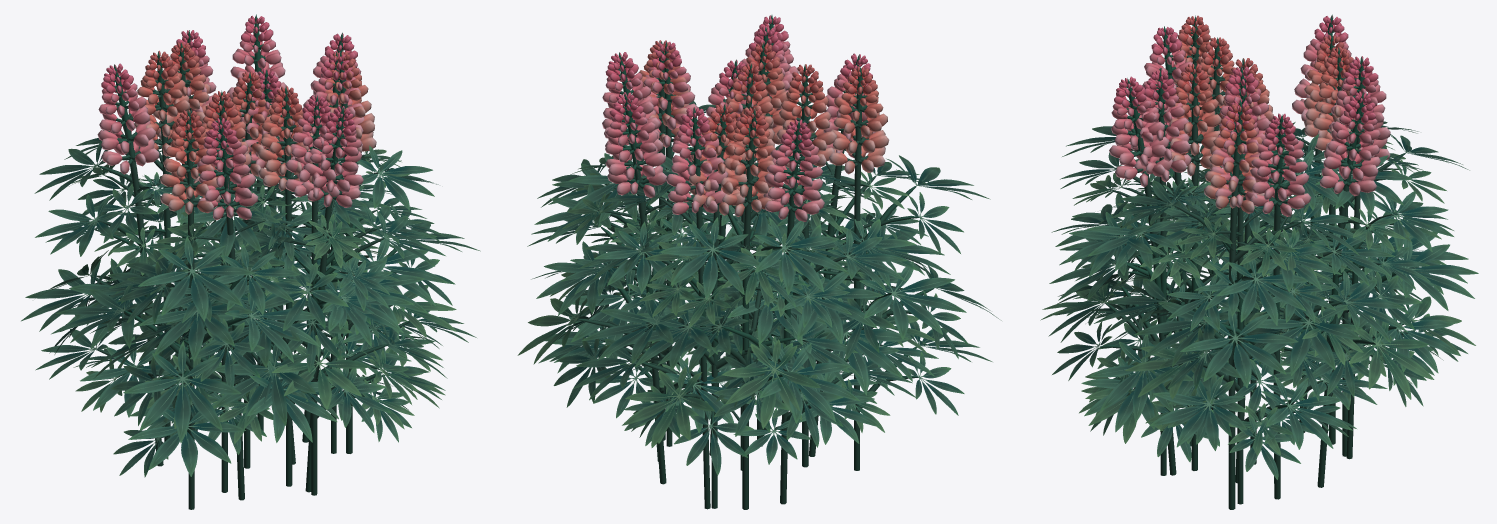
Rendered from EXP_Flower_Earth.fbx.
3 views of the same model, side by side, from view 1: azimuth 30°, elevation 25°; view 2: azimuth 150°, elevation 25°; view 3: azimuth 270°, elevation 25° (orthographic).
Visible parts, largest first — view 1: OBJ_Flower_Earth_01, OBJ_Flower_Earth_02, OBJ_Flower_Earth_03; view 2: OBJ_Flower_Earth_01, OBJ_Flower_Earth_02, OBJ_Flower_Earth_03; view 3: OBJ_Flower_Earth_01, OBJ_Flower_Earth_02, OBJ_Flower_Earth_03.
Boxes of the visible parts, x1,y1,x2,y2 form: OBJ_Flower_Earth_01: [35, 30, 480, 509]; OBJ_Flower_Earth_02: [21, 14, 456, 500]; OBJ_Flower_Earth_03: [64, 32, 448, 495]; OBJ_Flower_Earth_01: [527, 15, 1001, 509]; OBJ_Flower_Earth_02: [517, 41, 938, 509]; OBJ_Flower_Earth_03: [534, 26, 950, 508]; OBJ_Flower_Earth_01: [1051, 14, 1467, 509]; OBJ_Flower_Earth_02: [1048, 26, 1468, 504]; OBJ_Flower_Earth_03: [1040, 37, 1478, 499].
Size of the model in its own units: 166 by 150 by 150.
Materials: 1 (1 with a texture image).
